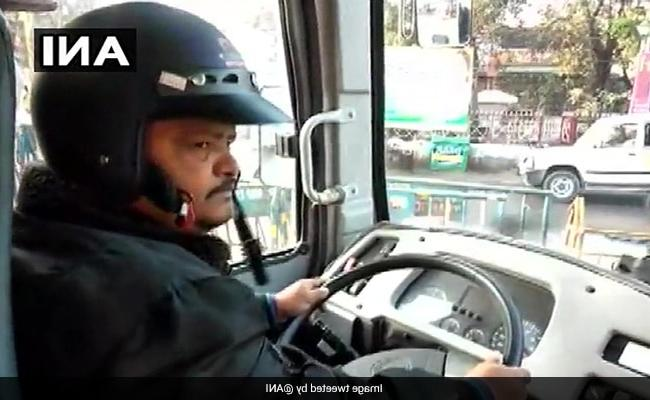Helmet: (17, 3, 291, 272)
